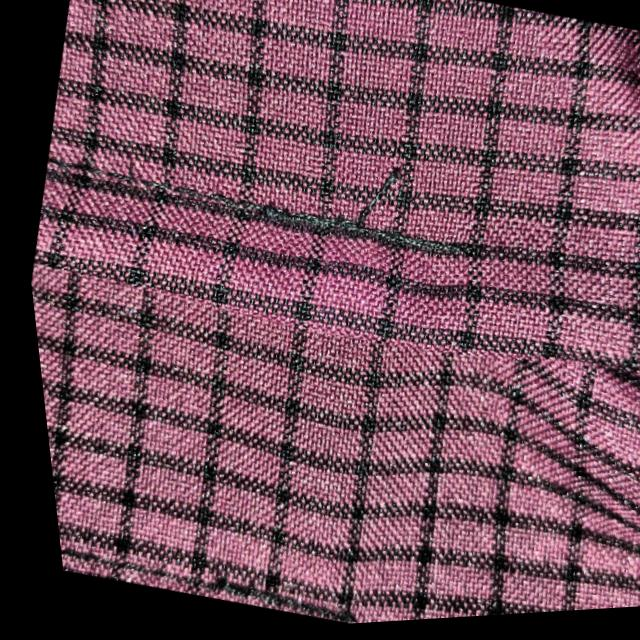Stitch: (303, 121, 427, 311)
